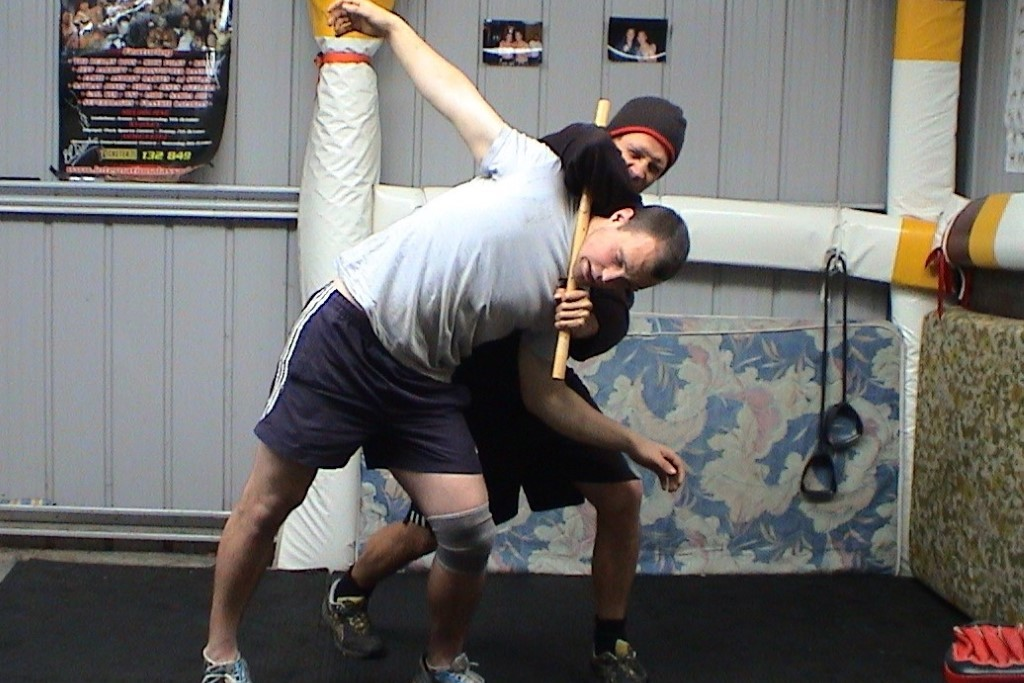baston_e: (552, 113, 611, 372)
baston_v: (547, 364, 571, 385), (595, 88, 616, 110)
